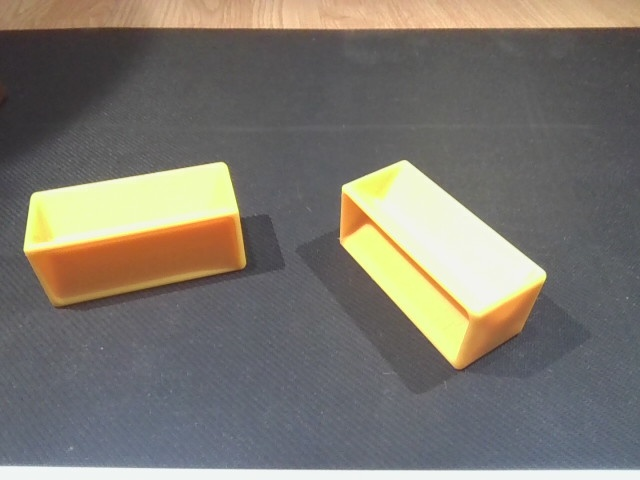YellowSample: (337, 155, 547, 372), (23, 157, 265, 310)
